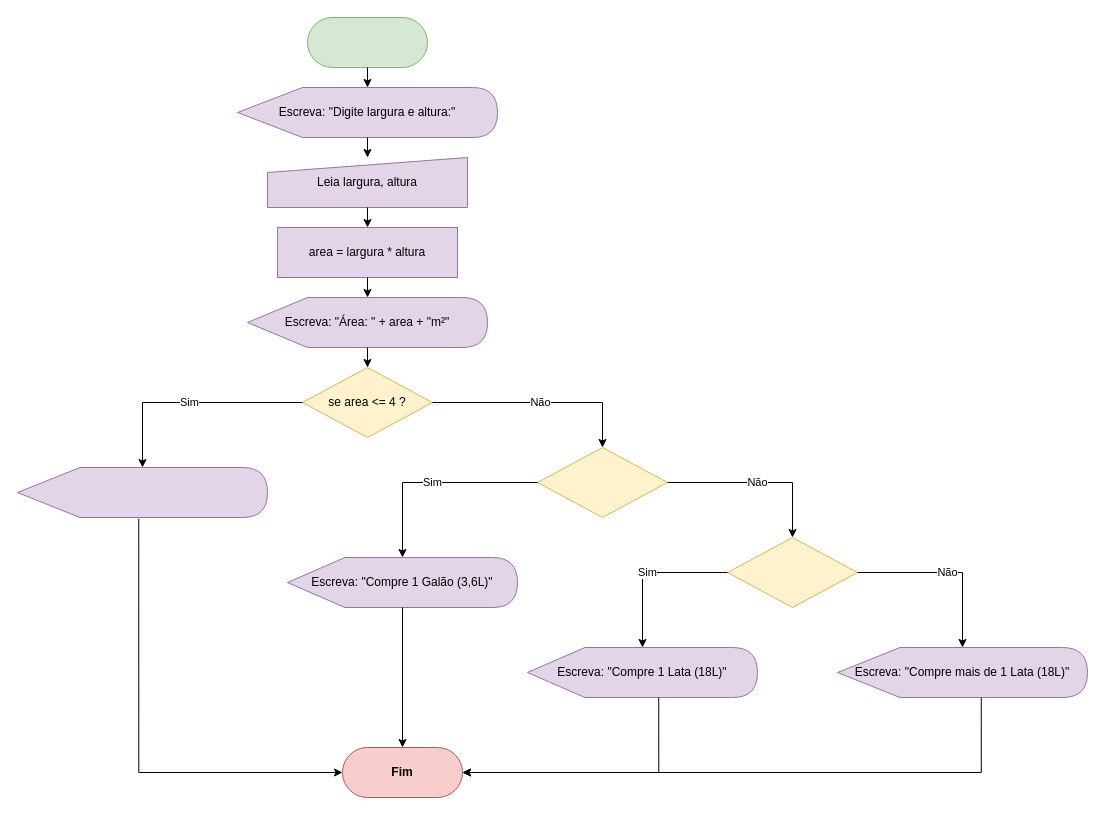
Some shapes in this 1105 by 815 pixel diagram are drawn without their labels. Here are the shapes that lost their labels. From the top down, the centre of each, then its label:
the point at 367,42: Início
the point at 142,492: Escreva: "Compre 1 Quartinho (900ml)"
the point at 602,482: se area <= 15 ?
the point at 792,572: se area <= 80 ?
